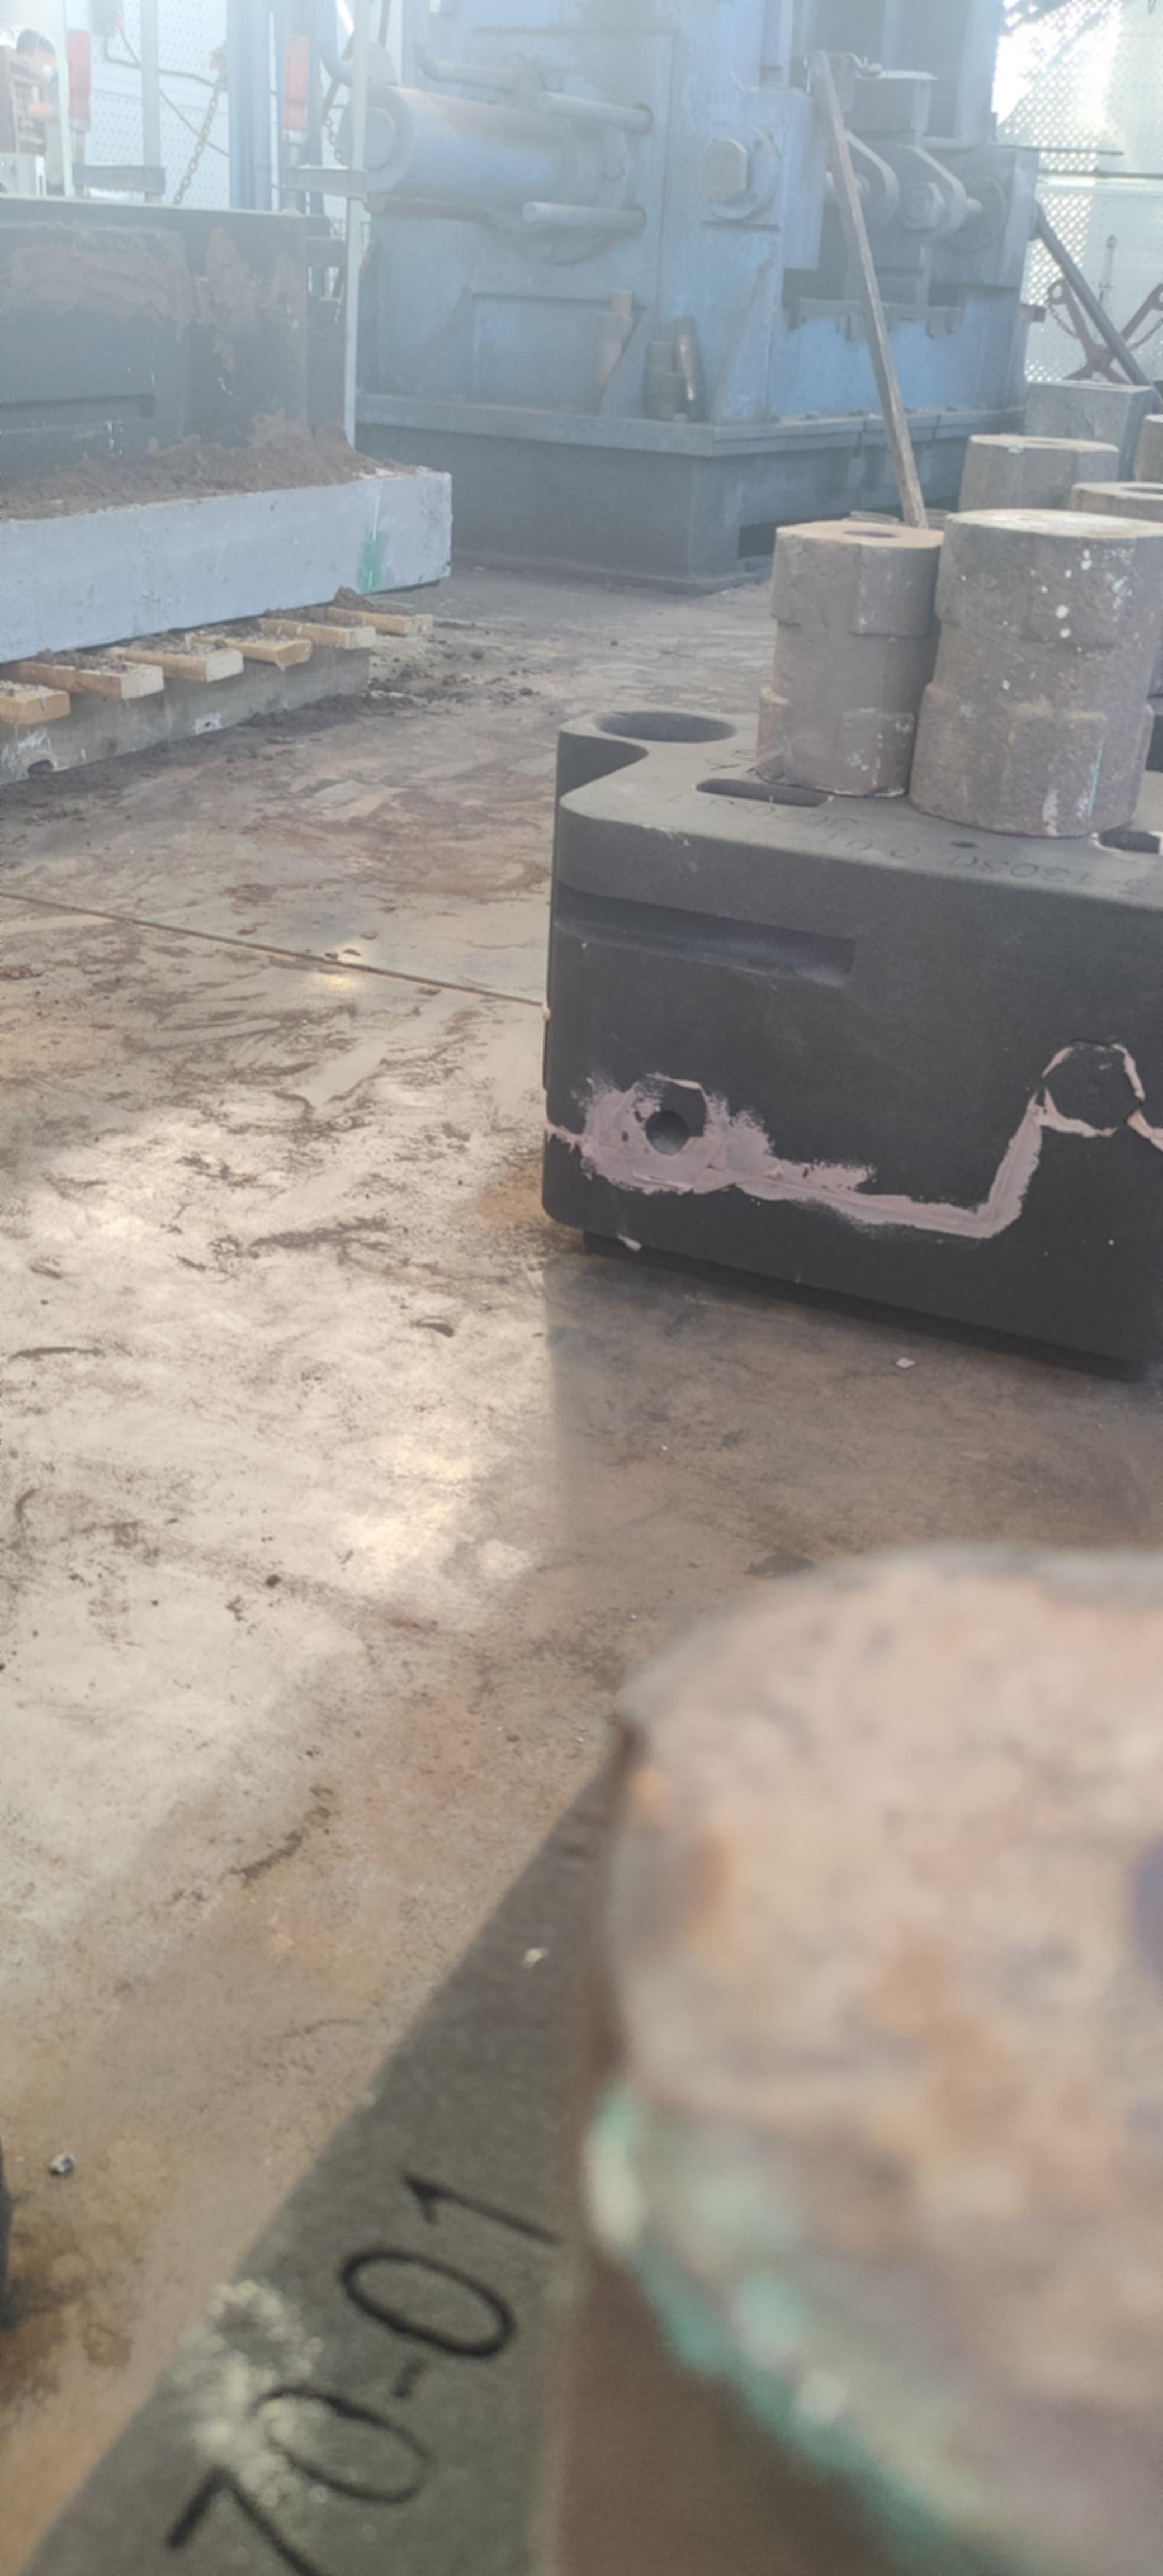pouring hole: (591, 708, 741, 744)
